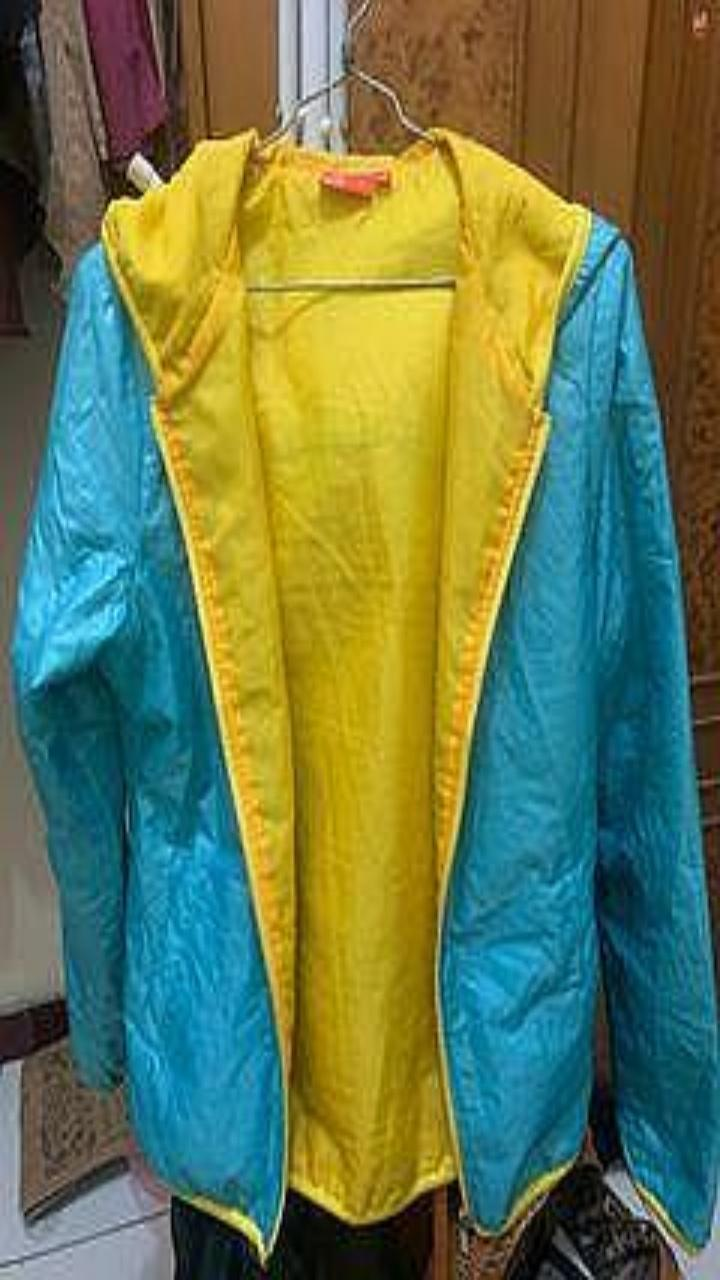Coat: (13, 130, 719, 1253)
